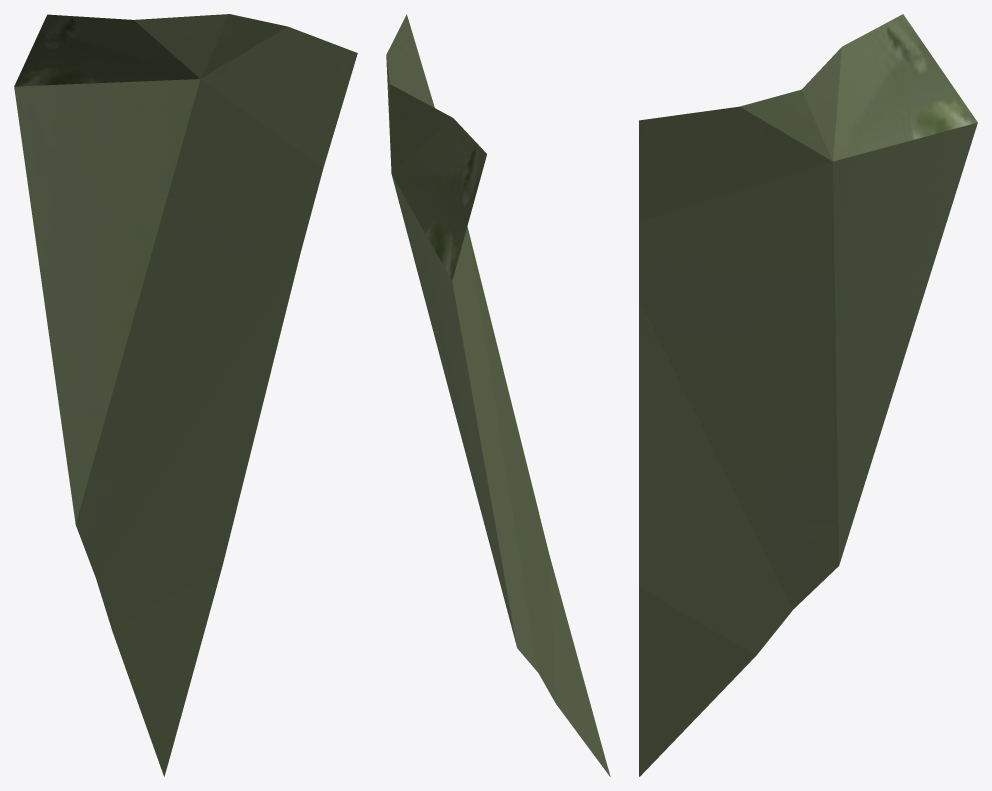
3 views of the same model, side by side, from view 1: azimuth 30°, elevation 25°; view 2: azimuth 150°, elevation 25°; view 3: azimuth 270°, elevation 25° (orthographic). The views are drawn at different scales.
Bounding box in the file's own units: 0.6674 × 2.23 × 0.8981.
1 material, 1 textured.
